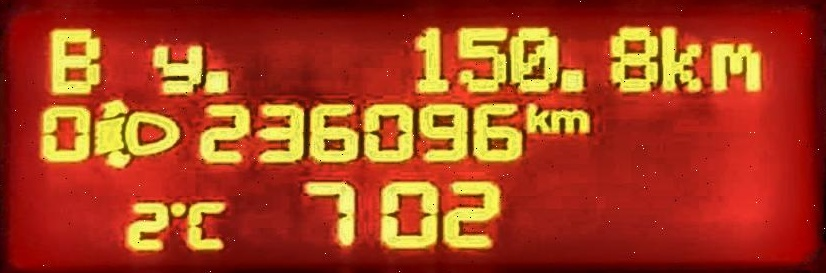-: (557, 68, 586, 93), (203, 69, 229, 95)
0: (379, 180, 440, 249), (505, 24, 559, 93), (359, 101, 415, 163), (37, 103, 93, 162)
1: (411, 24, 451, 94)
2: (441, 178, 502, 249), (195, 102, 253, 163), (123, 199, 170, 251)
3: (254, 102, 304, 164)
5: (452, 24, 508, 95)
6: (471, 100, 525, 163), (306, 101, 359, 163)
7: (299, 179, 357, 248)
8: (606, 23, 659, 94)
9: (416, 101, 469, 164)
X: (47, 24, 103, 93), (658, 25, 704, 93), (707, 40, 766, 93), (148, 41, 204, 95), (183, 199, 227, 252), (551, 107, 593, 134), (523, 102, 550, 135)
